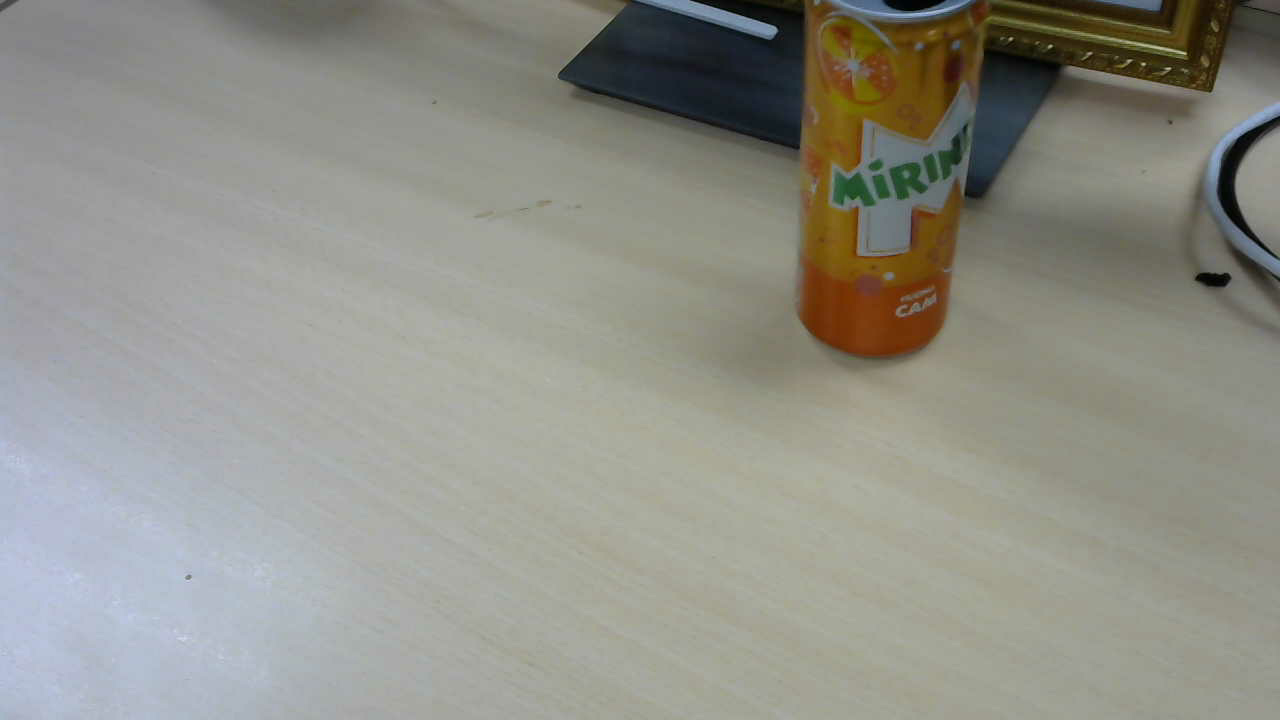Mirinda: (798, 2, 994, 366)
